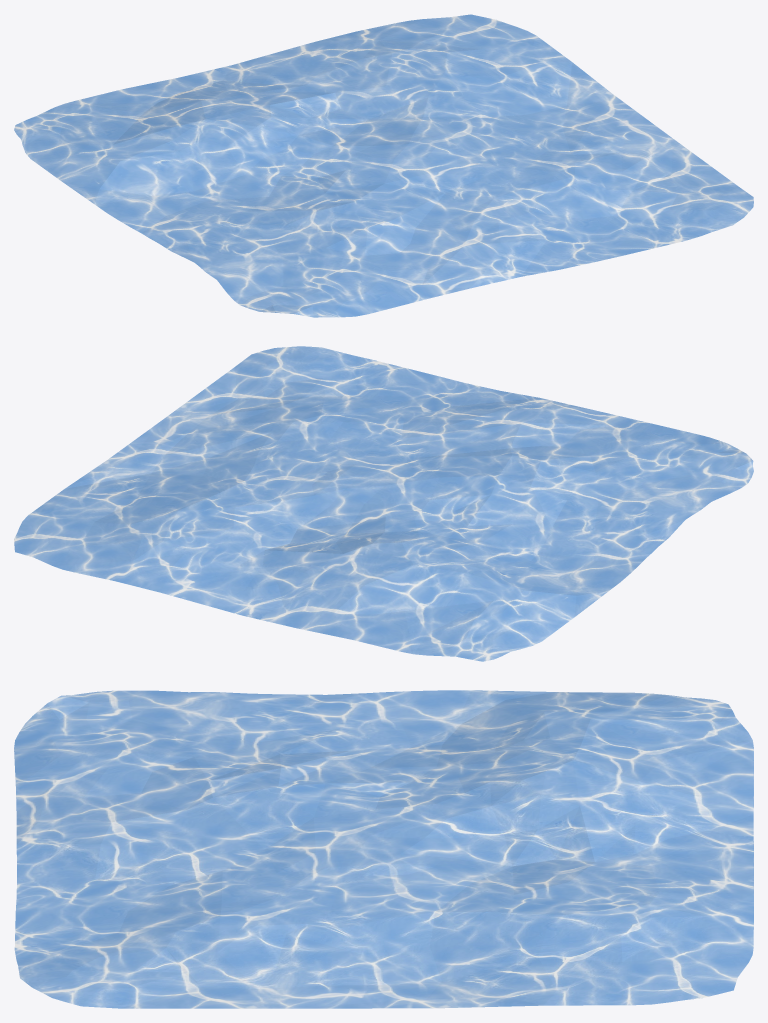
The model's file is agua 3d.fbx.
3 renders of one model, top to bottom at view 1: azimuth 30°, elevation 25°; view 2: azimuth 150°, elevation 25°; view 3: azimuth 270°, elevation 25°, orthographic. The views are drawn at different scales.
Visible parts, largest first — view 1: Ground_01; view 2: Ground_01; view 3: Ground_01.
Boxes of the visible parts, x1,y1,x2,y2 form: Ground_01: (14,14,753,317); Ground_01: (14,346,753,661); Ground_01: (14,690,753,1008).
Bounding box in the file's own units: 2977 × 132 × 2974.
